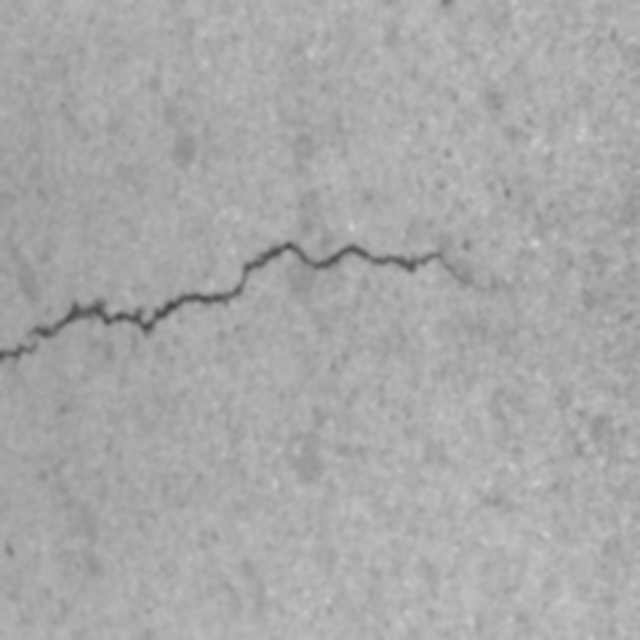SurfaceCrack: (0, 206, 639, 400)
